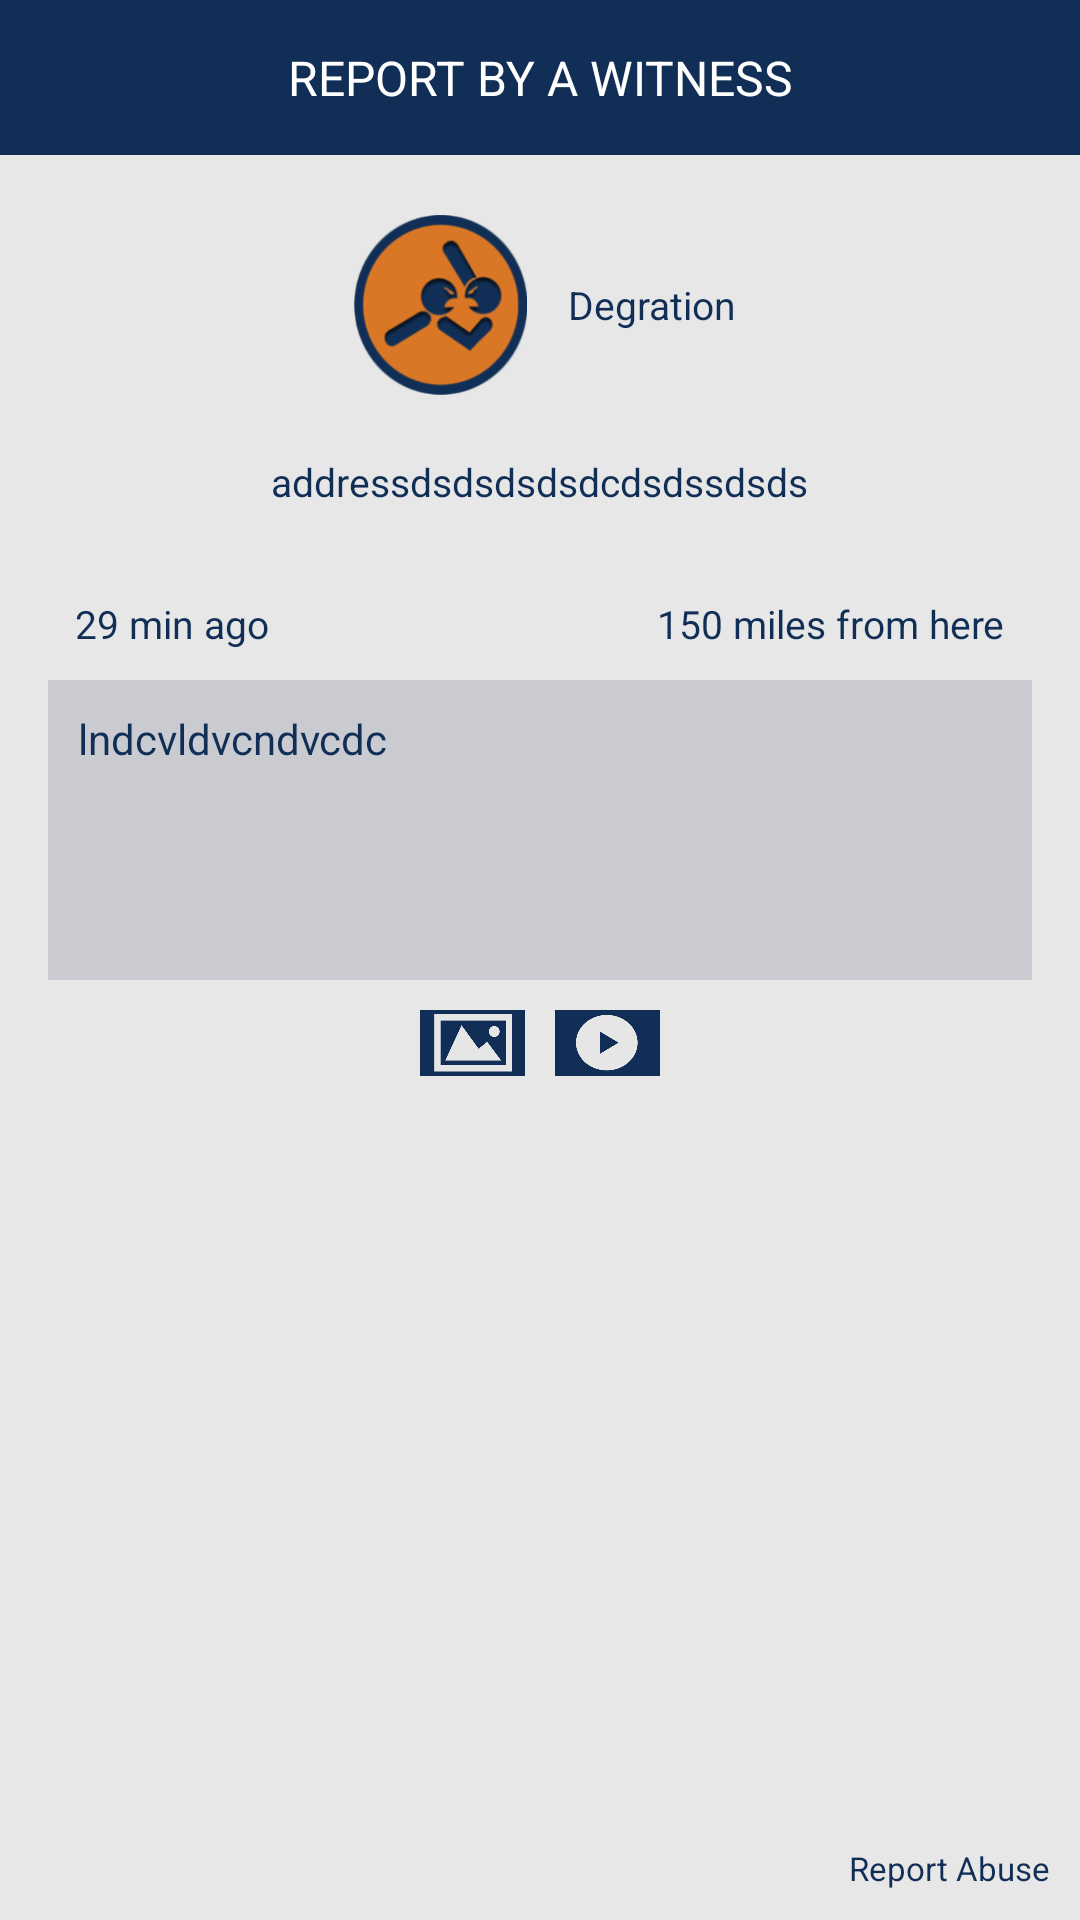

Icon click points for this 1080w x 1920h phone screenshot, format point (x, y):
arguement: point (440, 305)
photo: point (472, 1043)
video: point (607, 1043)
